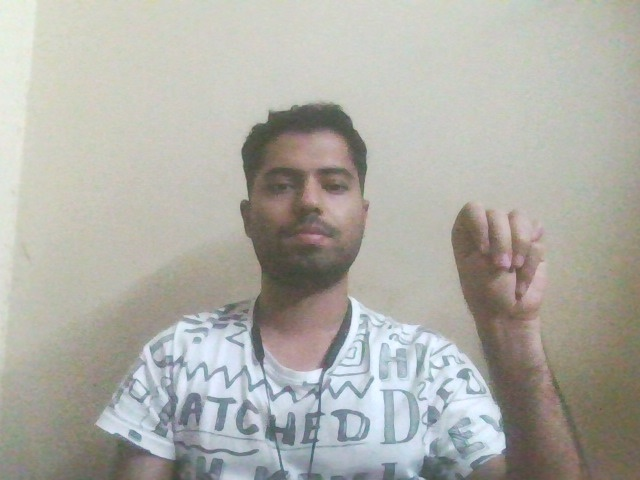O: (418, 188, 585, 329)
